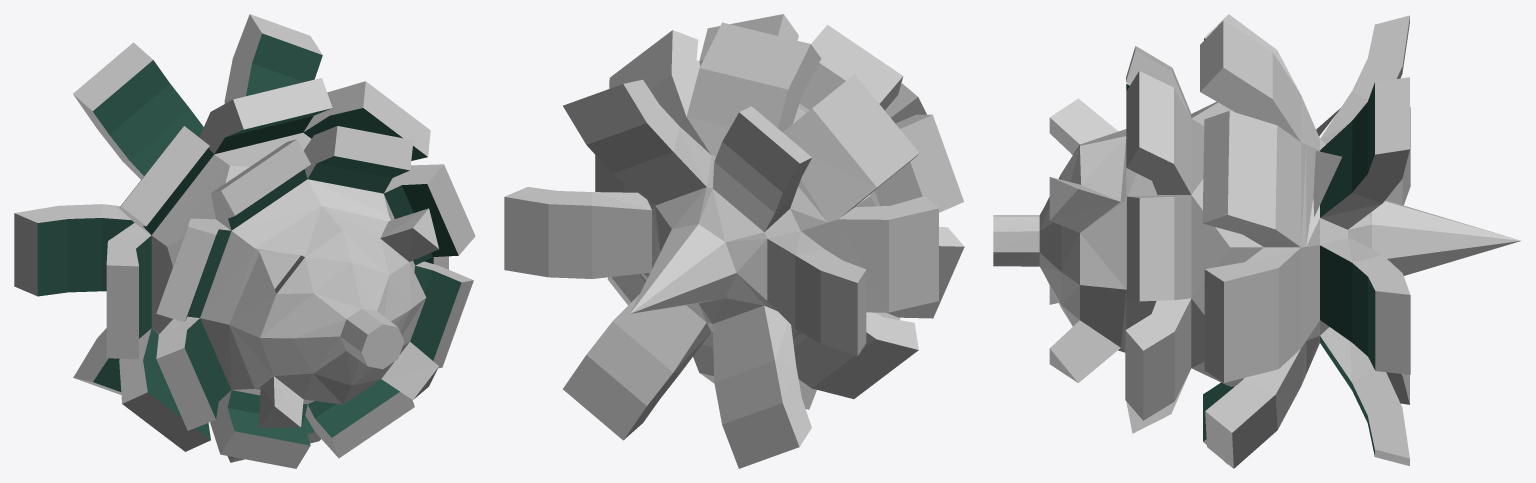
File: BR_Pineco-Shiny01.obj
3 views of the same model, side by side, from view 1: azimuth 30°, elevation 25°; view 2: azimuth 150°, elevation 25°; view 3: azimuth 270°, elevation 25° (orthographic). The views are drawn at different scales.
Parts seen in each view (by area): view 1: kunugidama; view 2: kunugidama; view 3: kunugidama.
Boxes of the visible parts, x1=… form: kunugidama: x1=14, y1=14, x2=475, y2=468; kunugidama: x1=504, y1=14, x2=964, y2=468; kunugidama: x1=993, y1=14, x2=1521, y2=468.
Size of the model in its own units: 7.41 by 7.3 by 8.8.
